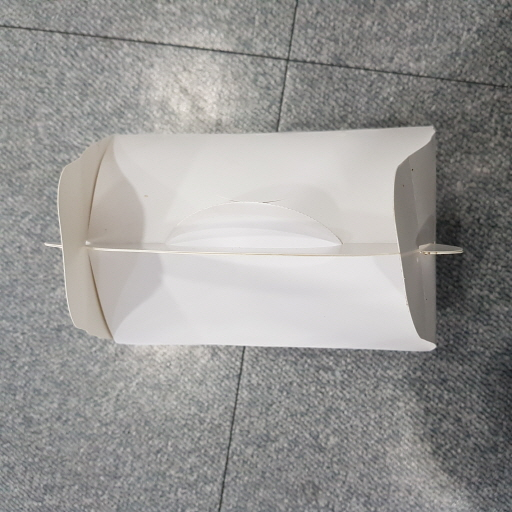Paper_0: (33, 120, 472, 375)
